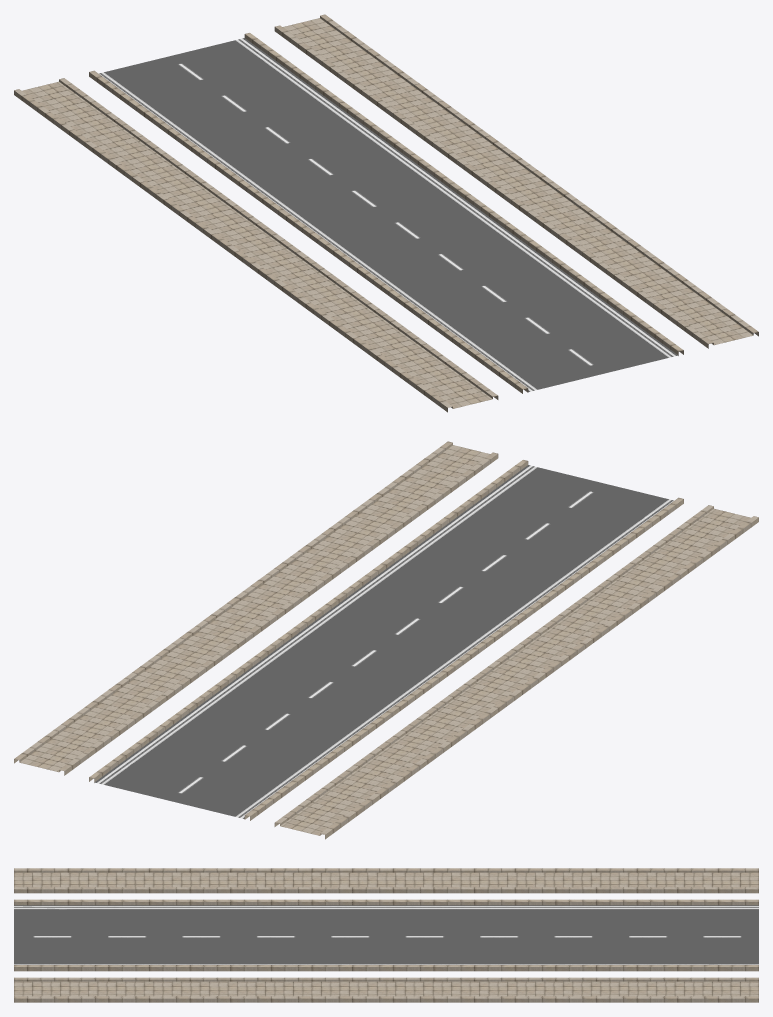
Rendered from Street1Lane50m.FBX.
3 views of the same model, one above another, from view 1: azimuth 30°, elevation 25°; view 2: azimuth 150°, elevation 25°; view 3: azimuth 270°, elevation 25° (orthographic). The views are drawn at different scales.
Parts seen in each view (by area): view 1: Street1Lane50m; view 2: Street1Lane50m; view 3: Street1Lane50m.
Part boxes in pixels (x1,y1,x2,y2): Street1Lane50m: (14, 14, 758, 412); Street1Lane50m: (14, 441, 758, 839); Street1Lane50m: (14, 868, 758, 1002).
Size of the model in its own units: 20.7 by 0.3 by 50.
2 materials, 2 textured.
